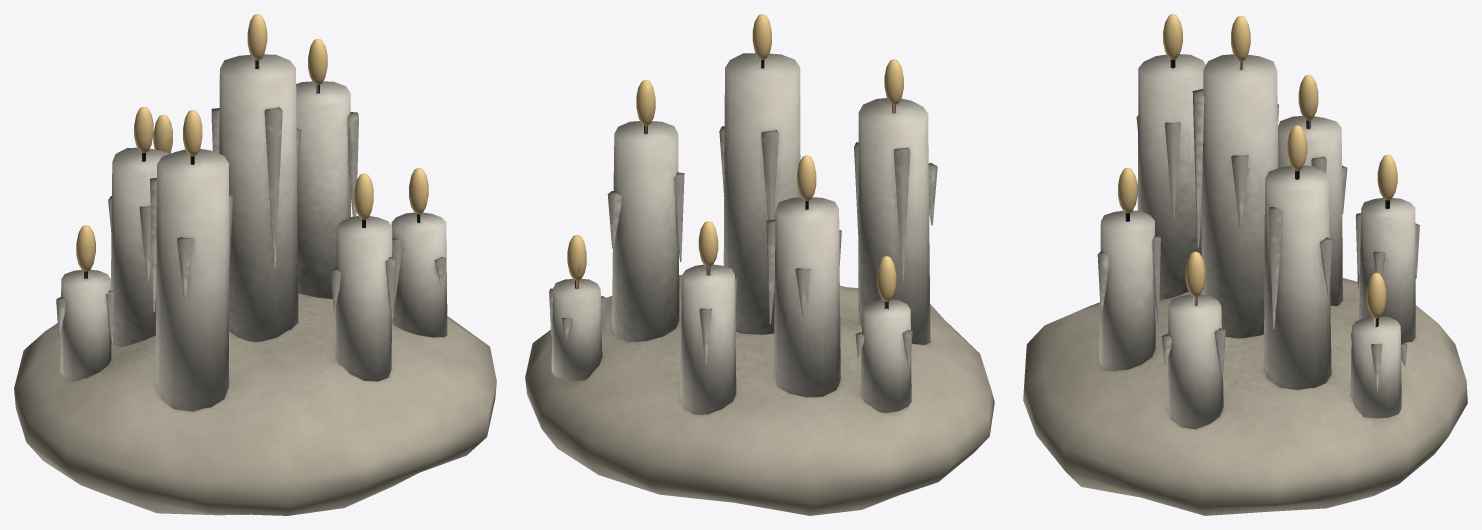
The model's file is vigil_candles.obj.
3 views of the same model, side by side, from view 1: azimuth 30°, elevation 25°; view 2: azimuth 150°, elevation 25°; view 3: azimuth 270°, elevation 25° (orthographic).
Visible parts, largest first — view 1: part0, part1, fire; view 2: part0, part1, fire; view 3: part0, part1, fire.
Part boxes in pixels (x1=…): part0: x1=56, y1=54, x2=447, y2=411; part1: x1=14, y1=293, x2=496, y2=515; fire: x1=76, y1=14, x2=428, y2=271; part0: x1=549, y1=53, x2=937, y2=414; part1: x1=525, y1=275, x2=994, y2=515; fire: x1=567, y1=14, x2=903, y2=301; part0: x1=1097, y1=54, x2=1419, y2=429; part1: x1=1023, y1=278, x2=1467, y2=515; fire: x1=1118, y1=14, x2=1397, y2=318.
Size of the model in its own units: 0.8617 by 0.884 by 0.7872.
